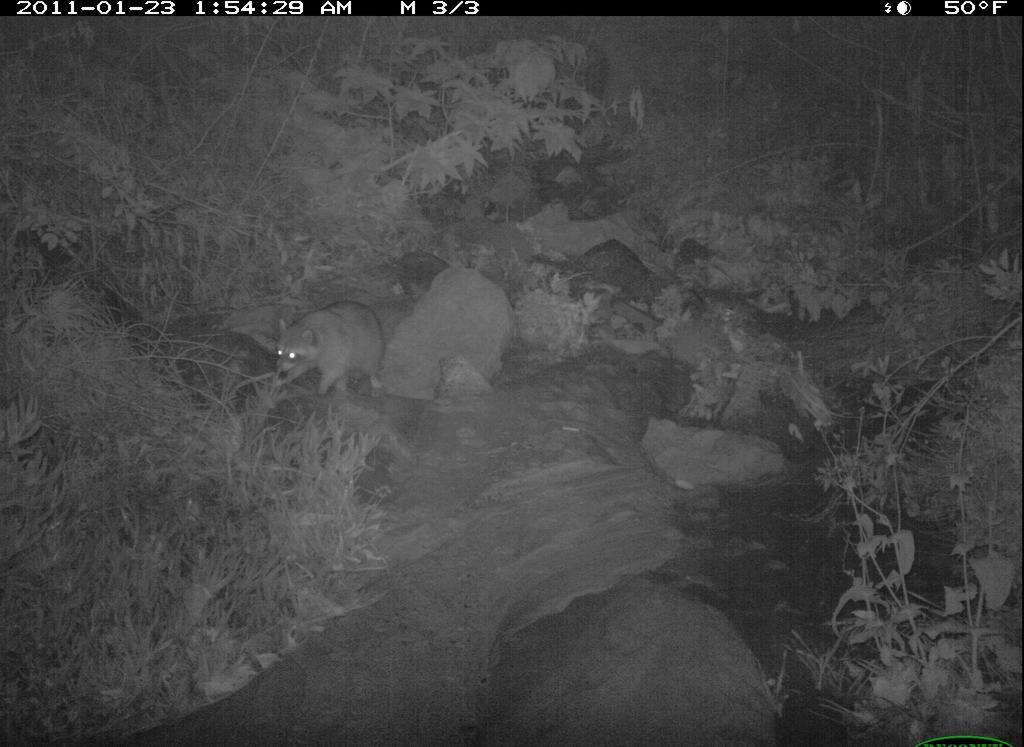raccoon: (268, 291, 399, 410)
